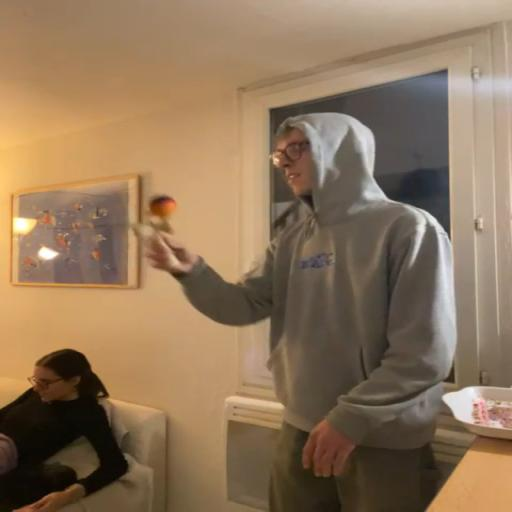kendama_ball: (148, 195, 178, 218)
